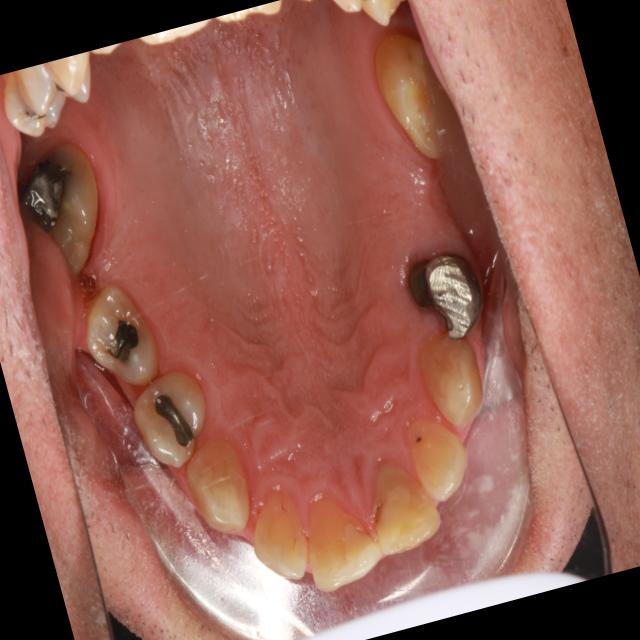tooth: (0, 127, 128, 292), (232, 468, 342, 622), (171, 419, 282, 571), (281, 472, 405, 607), (360, 20, 461, 181), (69, 276, 182, 418), (118, 349, 228, 489), (343, 445, 460, 573), (395, 230, 499, 357), (407, 314, 500, 449), (386, 392, 484, 516)
